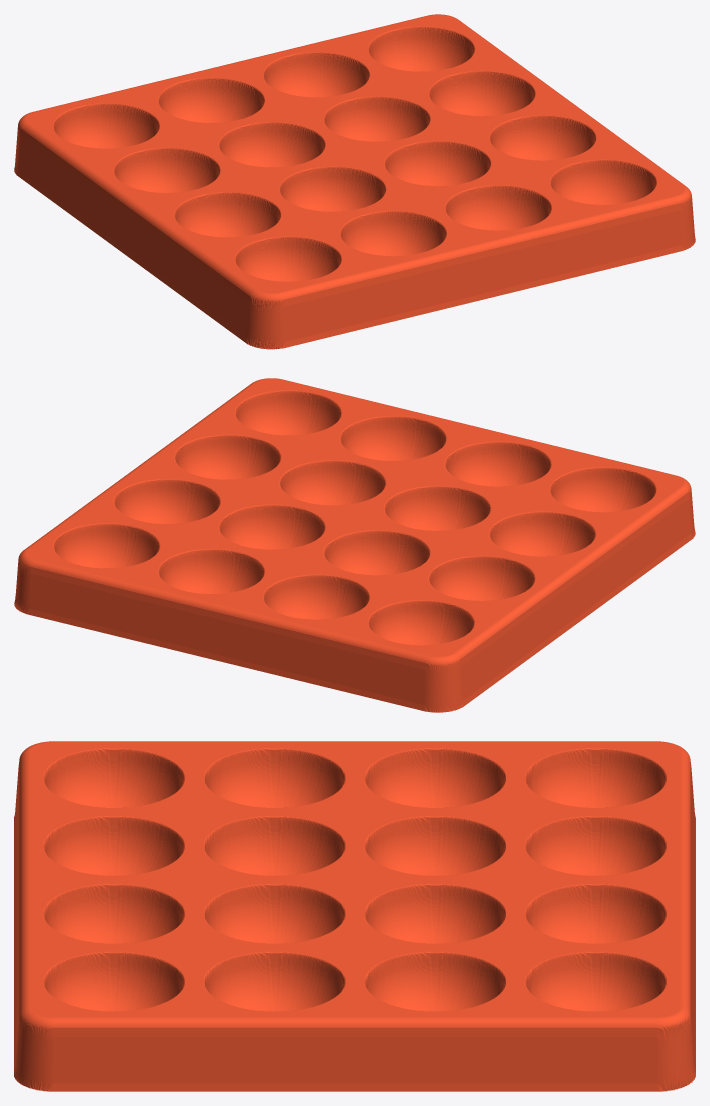
The model's file is mold.glb.
The picture shows the model from 3 angles, top to bottom: view 1: azimuth 30°, elevation 25°; view 2: azimuth 150°, elevation 25°; view 3: azimuth 270°, elevation 25°; orthographic projection. The views are drawn at different scales.
Parts seen in each view (by area): view 1: geometry_0; view 2: geometry_0; view 3: geometry_0.
Boxes of the visible parts, box(x1,y1,x2,y2) form: geometry_0: box(14, 14, 695, 349); geometry_0: box(14, 378, 695, 712); geometry_0: box(14, 741, 695, 1091).
Size of the model in its own units: 0.1569 by 0.0172 by 0.1569.
